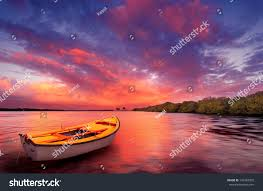boat: (18, 113, 121, 164)
